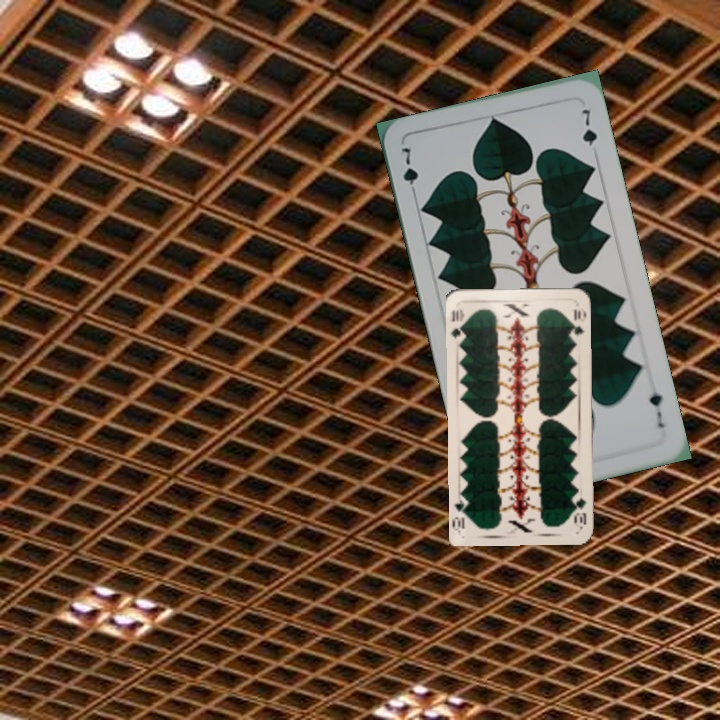G10: (447, 305, 467, 341), (571, 494, 589, 527)
G7: (397, 143, 421, 200), (645, 380, 667, 430)
